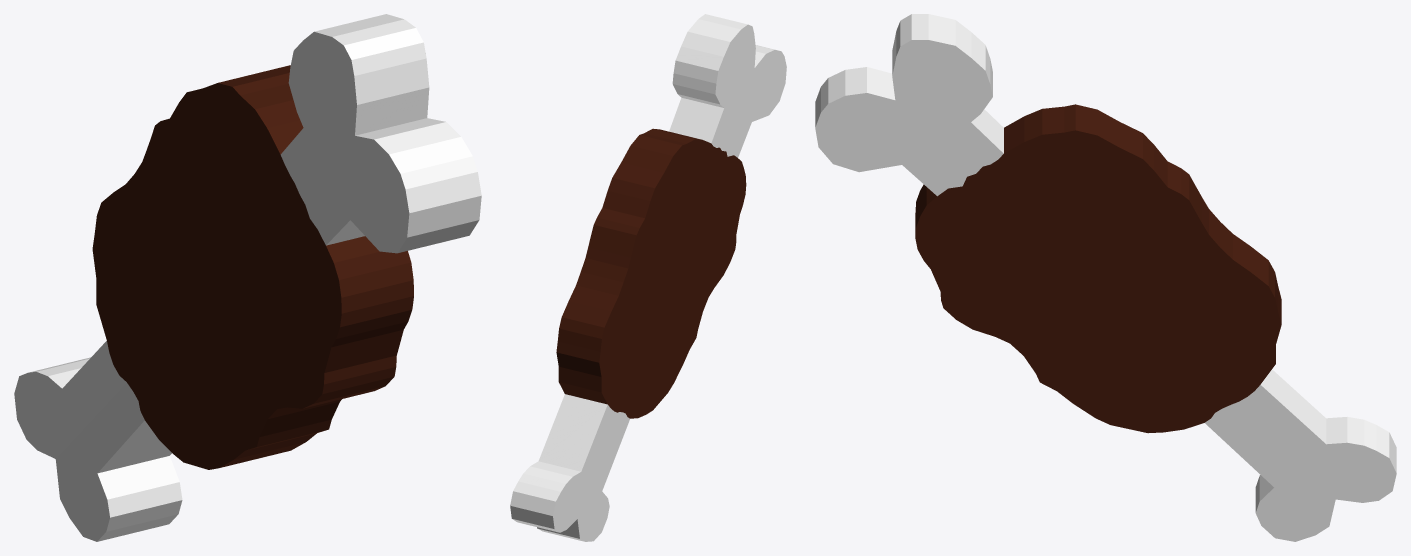
File: MaxHealthUp.fbx
3 renders of one model, left to right at view 1: azimuth 30°, elevation 25°; view 2: azimuth 150°, elevation 25°; view 3: azimuth 270°, elevation 25°, orthographic. The views are drawn at different scales.
Visible parts, largest first — view 1: Cube.001; view 2: Cube.001; view 3: Cube.001.
Boxes of the visible parts, x1,y1,x2,y2 form: Cube.001: (14, 14, 481, 541); Cube.001: (510, 14, 786, 541); Cube.001: (815, 14, 1396, 541).
Bounding box in the file's own units: 20.88 × 180 × 189.
